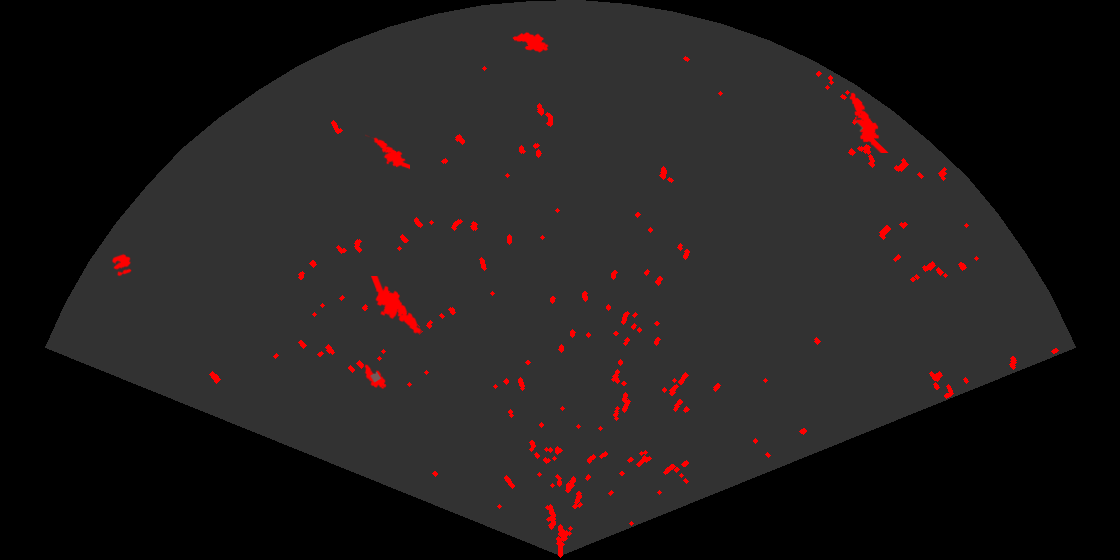AUV: (511, 30, 550, 54), (363, 363, 388, 391)
ball: (110, 252, 133, 278)
frogman: (369, 276, 423, 336), (848, 91, 890, 153), (365, 134, 410, 171)
